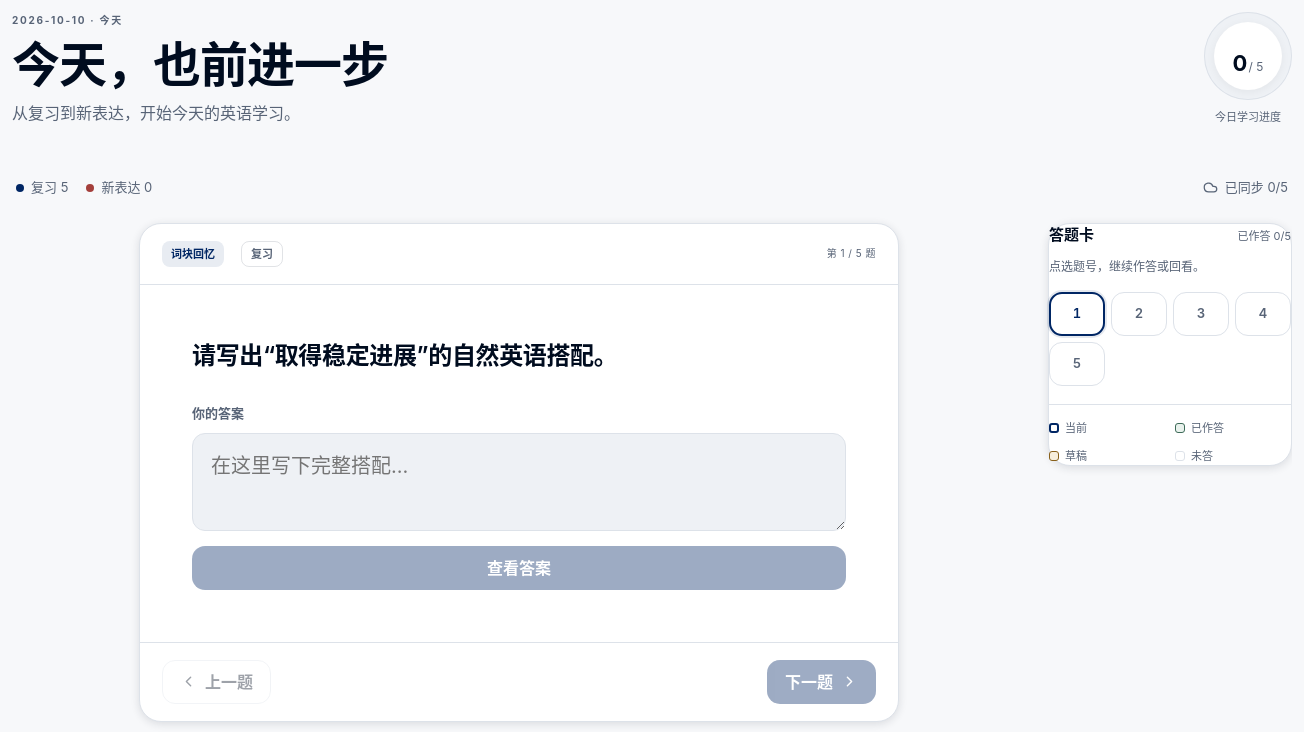
Test: ReviewView › reveals the preloaded reference without a checkpoint and hides answer-leaking boundaries
This screenshot has width=1304, height=732.
Step 1. Type "make steady progress" into the text box labelled "你的答案" → (519, 482), box [192, 433, 846, 531]
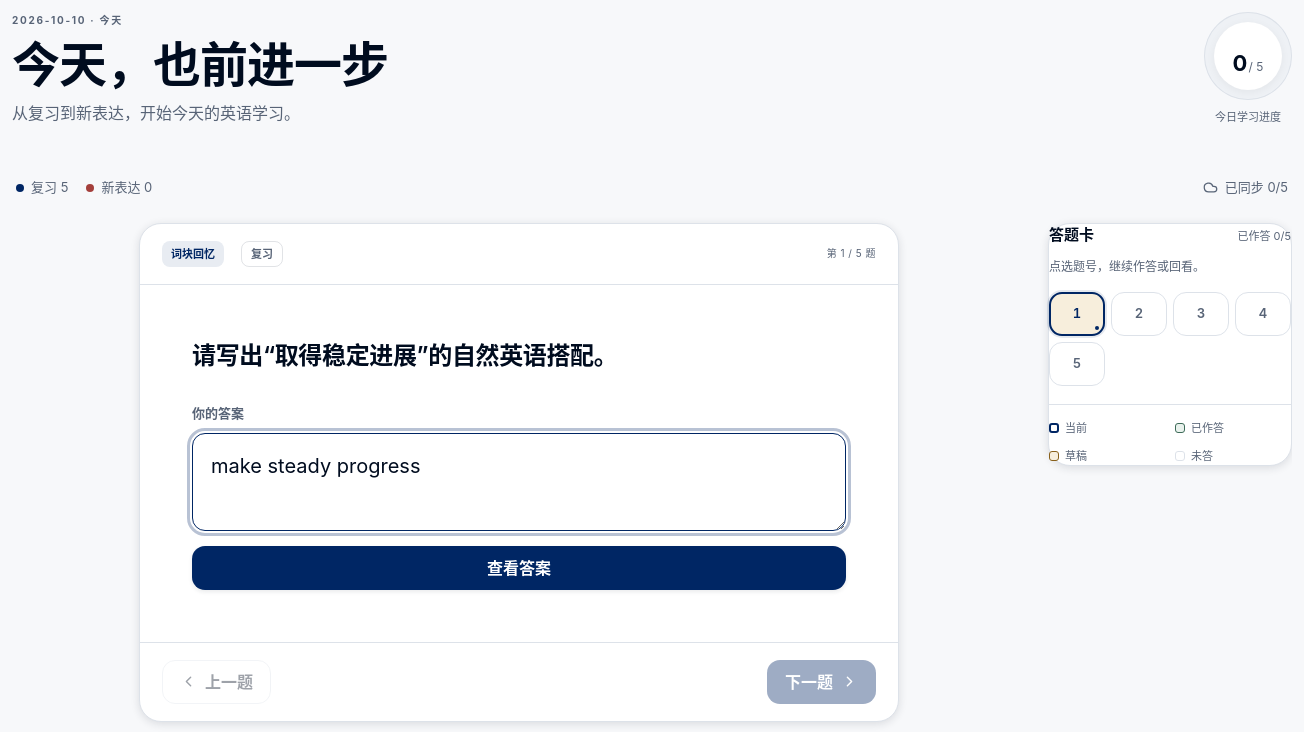
Step 2. Click the button "查看答案" → click(519, 568), box [192, 546, 846, 590]
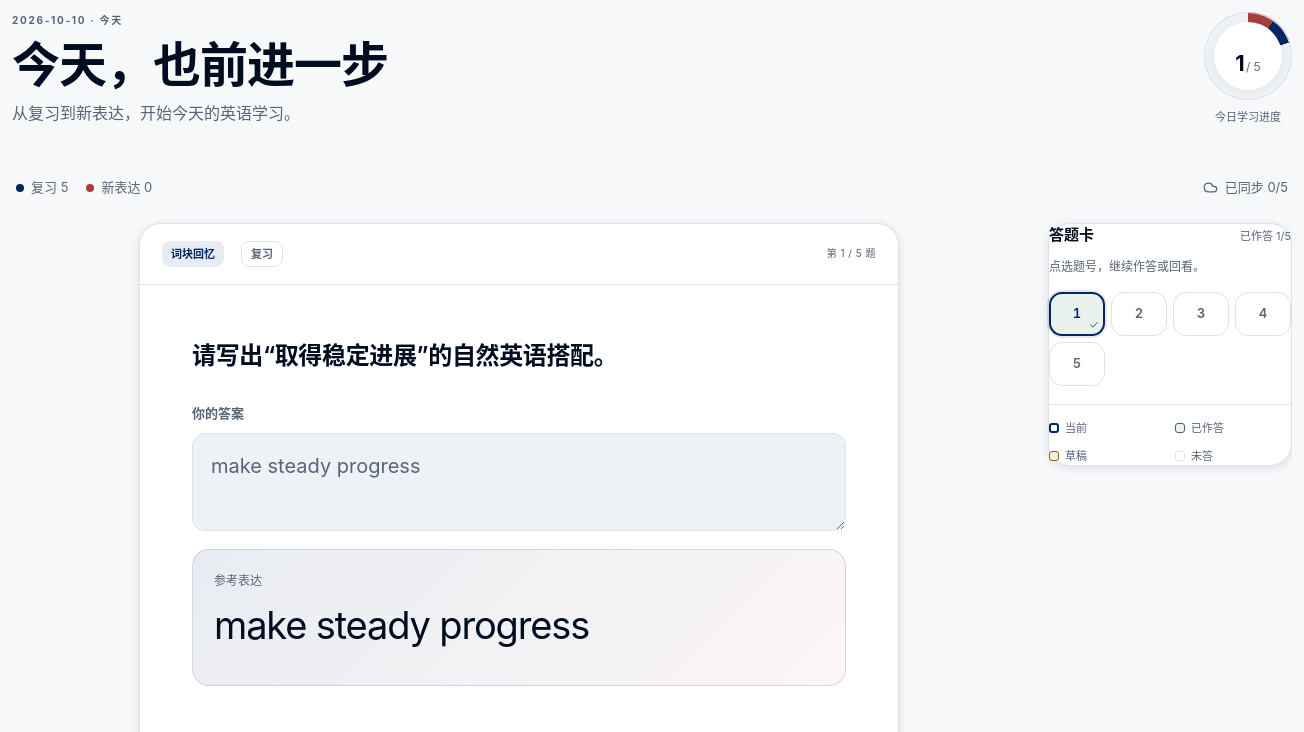
Now the element with test id "answer-reveal" is shown, box [192, 549, 846, 686]
Now the element with test id "answer-reveal" shows "make steady progress", box [214, 602, 589, 648]
Now the text box labelled "你的答案" is disabled, box [192, 433, 846, 531]
